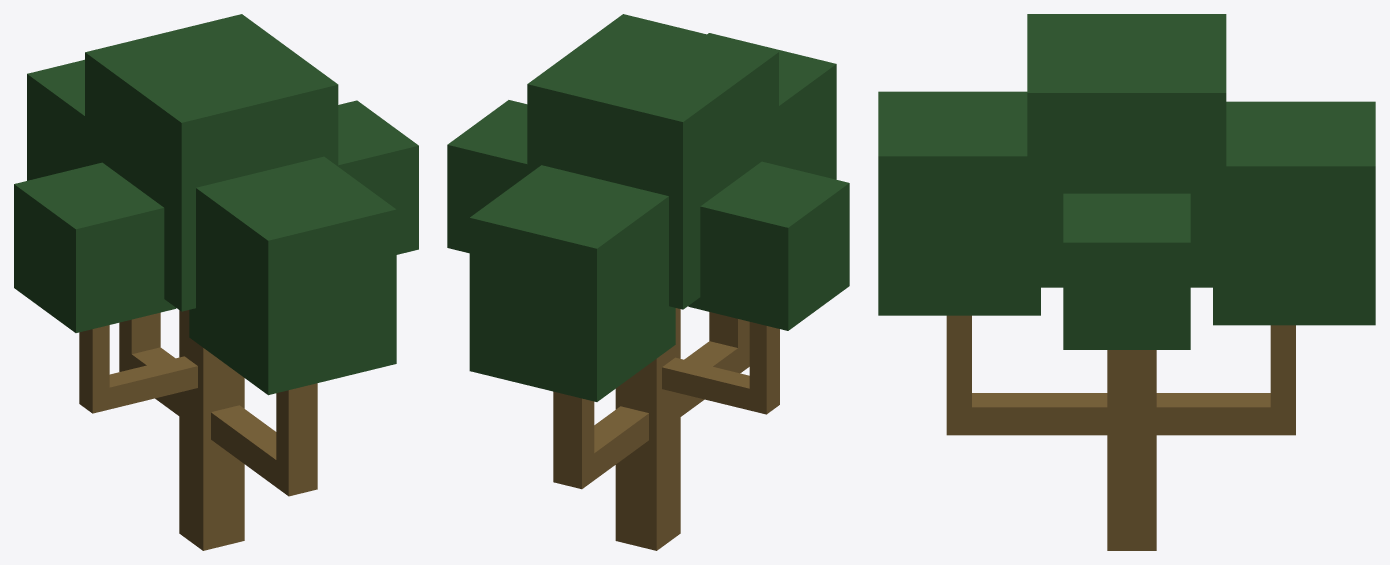
The model's file is tree4.FBX.
The picture shows the model from 3 angles, left to right: view 1: azimuth 30°, elevation 25°; view 2: azimuth 150°, elevation 25°; view 3: azimuth 270°, elevation 25°; orthographic projection. The views are drawn at different scales.
Parts seen in each view (by area): view 1: tree4; view 2: tree4; view 3: tree4.
Boxes of the visible parts, box(x1,y1,x2,y2) form: tree4: box(14, 14, 418, 550); tree4: box(447, 14, 849, 550); tree4: box(878, 14, 1375, 550).
Size of the model in its own units: 8.28 by 10.87 by 10.09.
